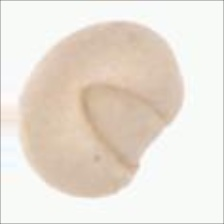L5: (78, 80, 170, 174), (18, 47, 54, 121)
L6: (17, 18, 186, 199)
